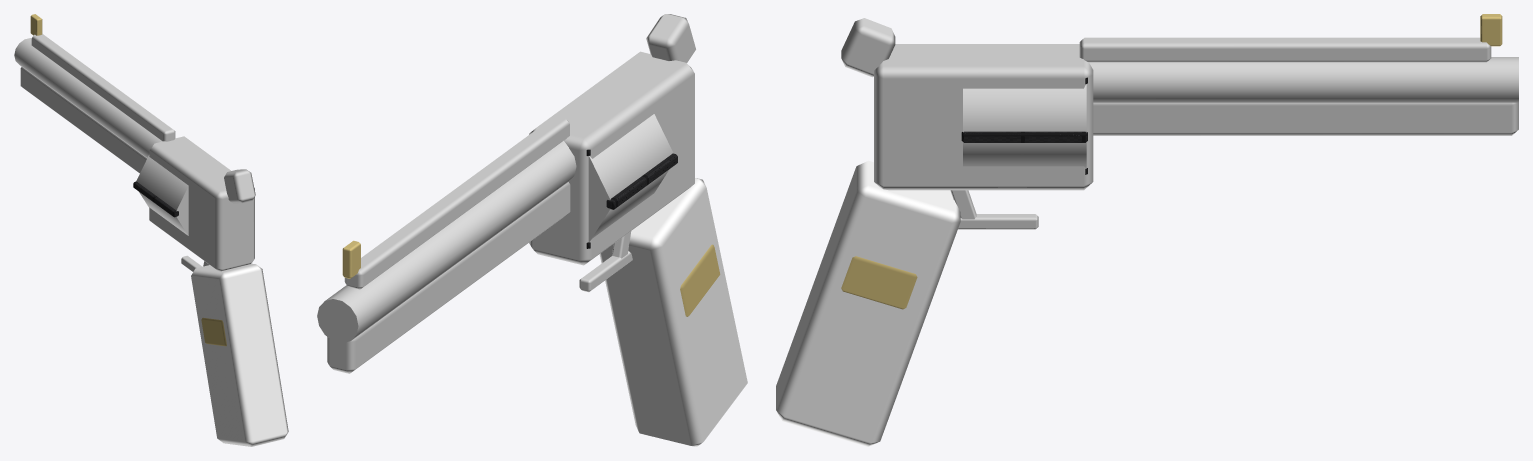
Rendered from mamba.glb.
3 views of the same model, side by side, from view 1: azimuth 30°, elevation 25°; view 2: azimuth 150°, elevation 25°; view 3: azimuth 270°, elevation 25° (orthographic). The views are drawn at different scales.
Bounding box in the file's own units: 0.046 × 0.1687 × 0.2706.
4 materials, 1 textured.
